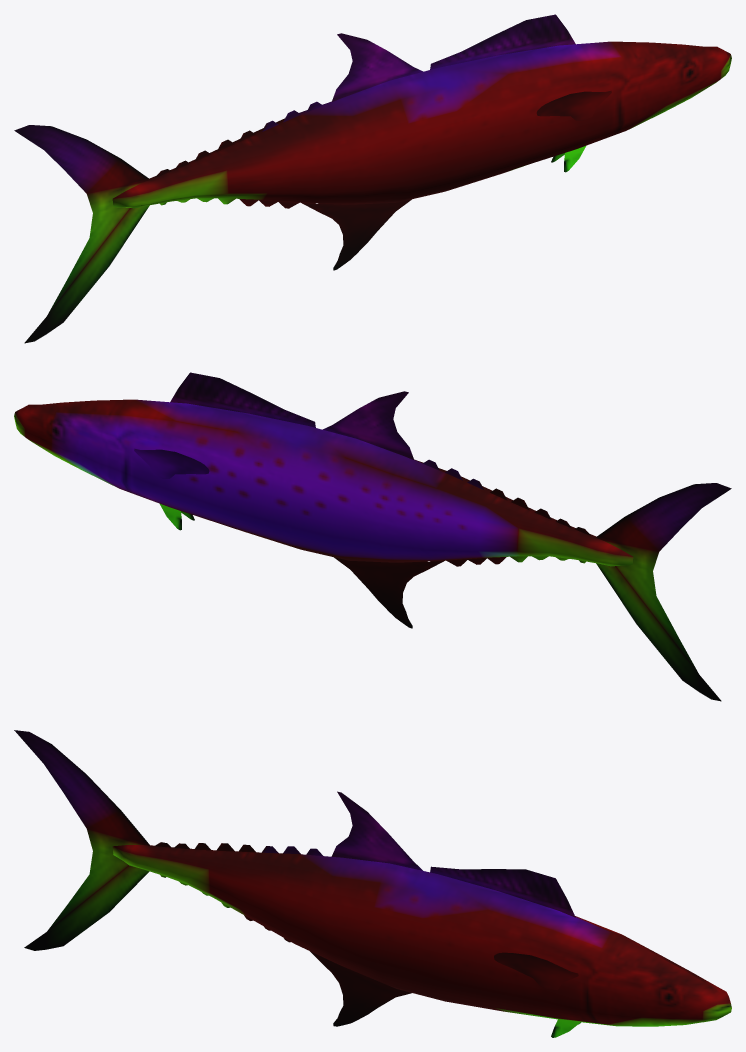
Rendered from spanish_mackerel.glb.
3 renders of one model, top to bottom at view 1: azimuth 30°, elevation 25°; view 2: azimuth 150°, elevation 25°; view 3: azimuth 330°, elevation 25°, orthographic.
Visible parts, largest first — view 1: SpanishMackerel; view 2: SpanishMackerel; view 3: SpanishMackerel.
Boxes of the visible parts, x1,y1,x2,y2 form: SpanishMackerel: (14,14,731,343); SpanishMackerel: (14,372,731,701); SpanishMackerel: (14,730,731,1037).
Size of the model in its own units: 1 by 0.3134 by 0.1035.
Materials: 1 (1 with a texture image).
